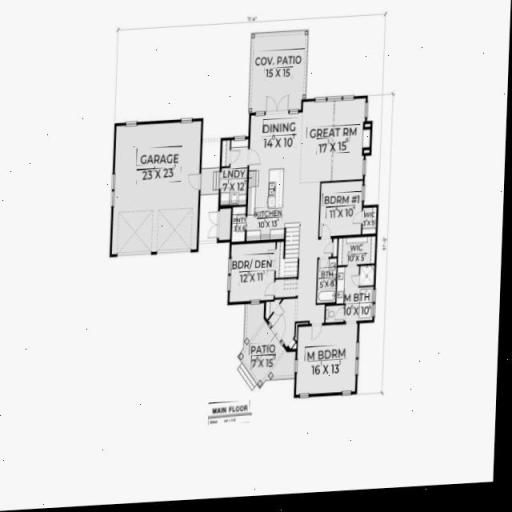Room: (260, 122, 295, 165)
bathroom: (342, 288, 374, 322)
bedroom: (296, 328, 359, 396), (230, 242, 286, 303), (322, 184, 364, 231)
garage: (120, 126, 198, 250)
hall: (301, 107, 360, 183)
laundary: (219, 169, 254, 205)
